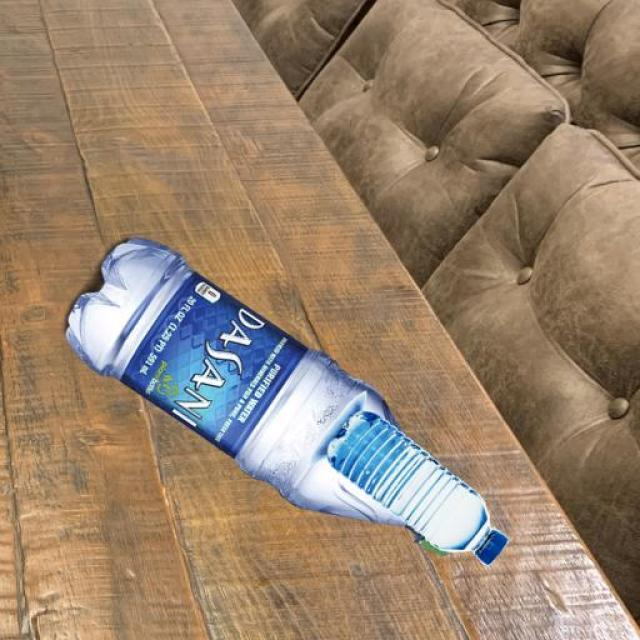bottle: (64, 233, 508, 568)
